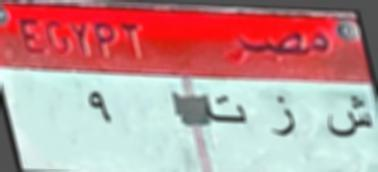9: (80, 82, 120, 128)
sheen: (325, 90, 373, 146)
taa: (198, 91, 256, 134)
zay: (266, 89, 305, 144)
